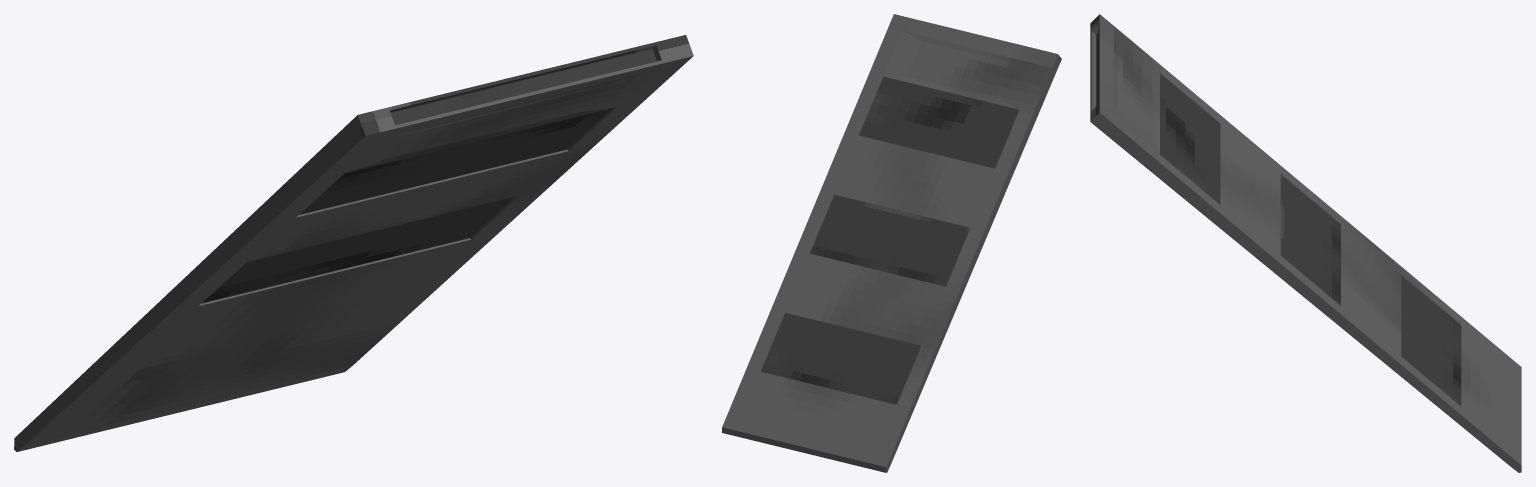
File: F7CargoRamp.glb
3 views of the same model, side by side, from view 1: azimuth 30°, elevation 25°; view 2: azimuth 150°, elevation 25°; view 3: azimuth 270°, elevation 25° (orthographic). The views are drawn at different scales.
Parts seen in each view (by area): view 1: RearRamp.002; view 2: RearRamp.002; view 3: RearRamp.002.
Boxes of the visible parts, x1=… form: RearRamp.002: x1=14, y1=35, x2=693, y2=451; RearRamp.002: x1=722, y1=14, x2=1061, y2=472; RearRamp.002: x1=1090, y1=14, x2=1521, y2=472.
Bounding box in the file's own units: 3 × 5.13 × 5.56.
1 material, 1 textured.
